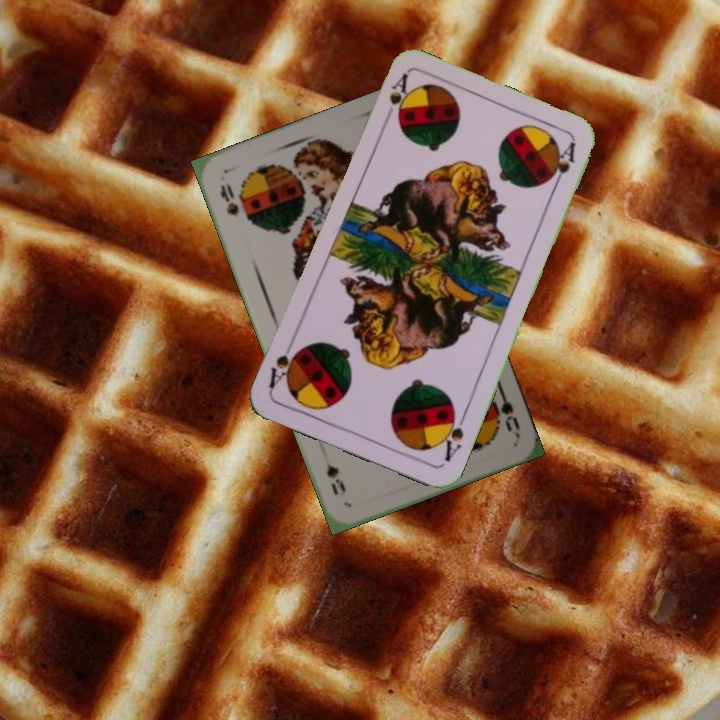SA: (436, 405, 469, 464), (379, 70, 411, 126)
SO: (485, 380, 523, 438), (216, 179, 242, 220)
